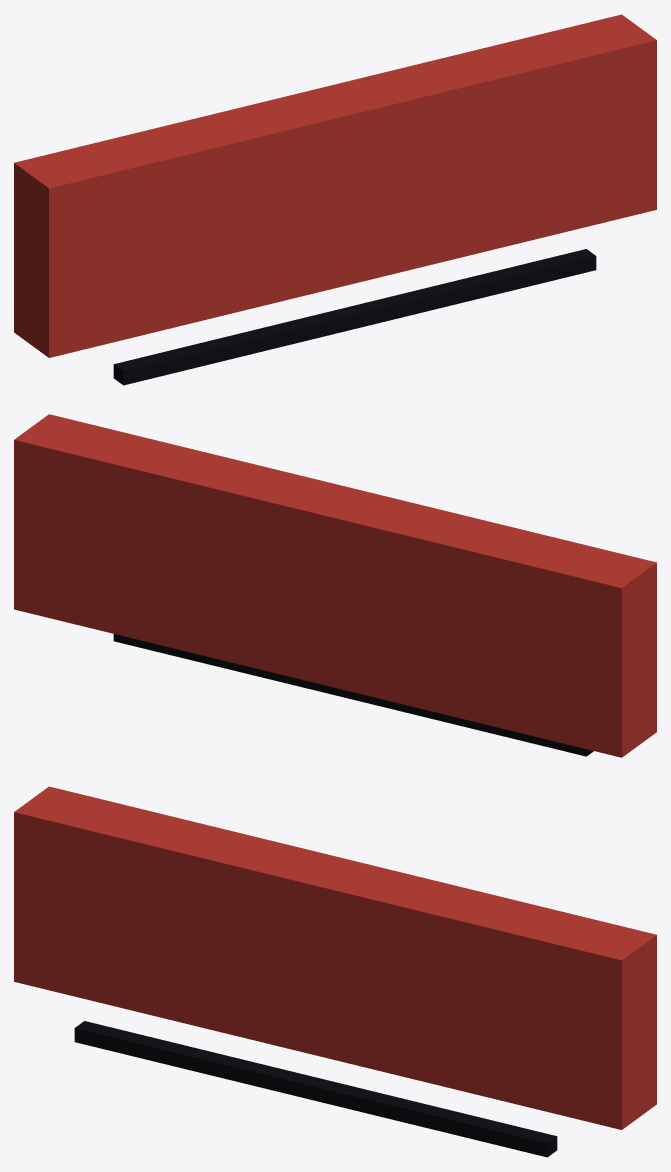
The model's file is prop.breaching_charge_wall.glb.
The picture shows the model from 3 angles, top to bottom: view 1: azimuth 30°, elevation 25°; view 2: azimuth 150°, elevation 25°; view 3: azimuth 330°, elevation 25°; orthographic projection.
Parts seen in each view (by area): view 1: charge_block, wire_lead; view 2: charge_block, wire_lead; view 3: charge_block, wire_lead.
Boxes of the visible parts, x1,y1,x2,y2 form: charge_block: [14, 14, 656, 357]; wire_lead: [113, 249, 596, 385]; charge_block: [14, 414, 656, 757]; wire_lead: [113, 634, 593, 756]; charge_block: [14, 786, 656, 1129]; wire_lead: [74, 1021, 557, 1157].
Bounding box in the file's own units: 1.8 × 0.59 × 0.215.
